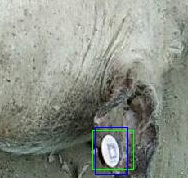text: (92, 130, 133, 169)
